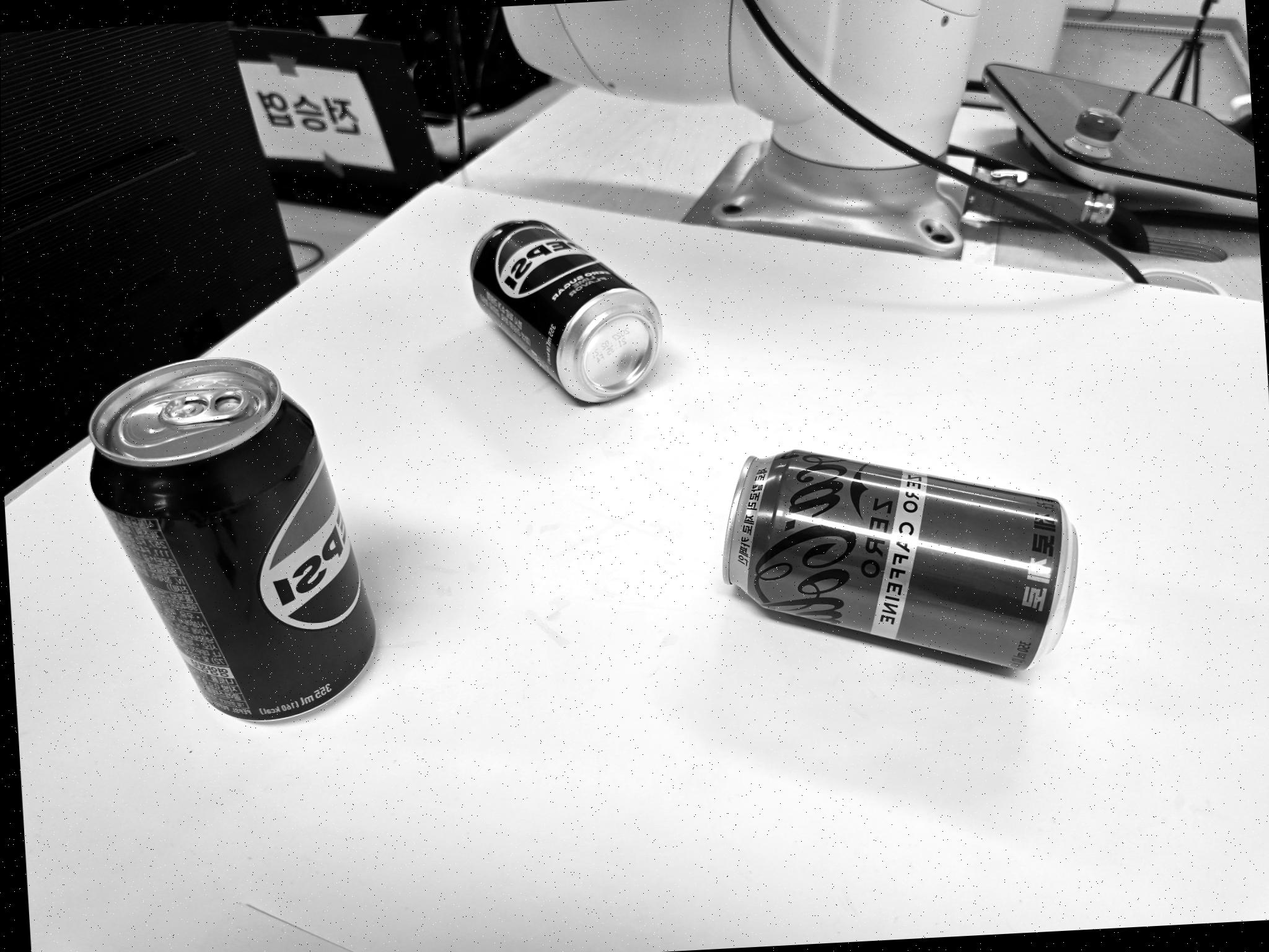can_coke_decaf: (722, 448, 1081, 672)
can_pepsi: (87, 362, 380, 726)
can_pepsi_zero: (469, 216, 661, 407)
